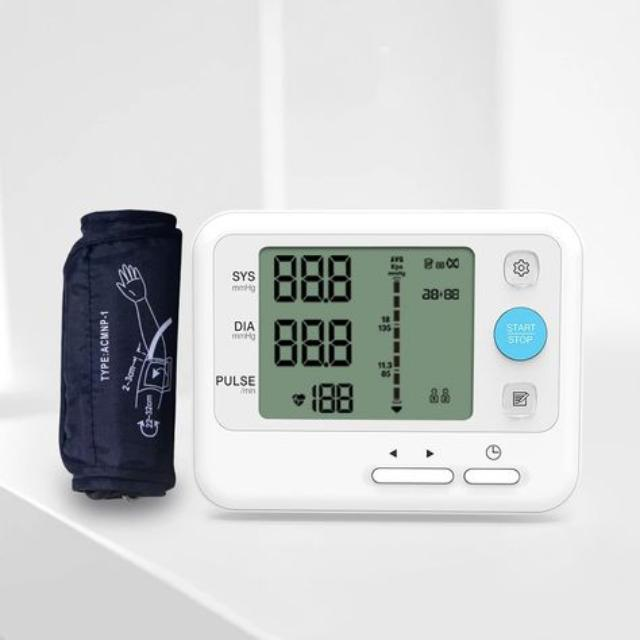Blood-Pressure-Monitor: (194, 211, 581, 512)
